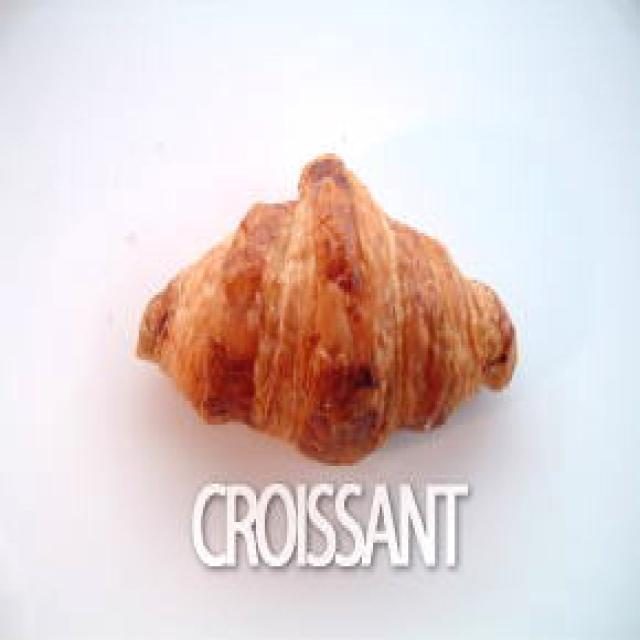Croissant: (125, 145, 522, 463)
